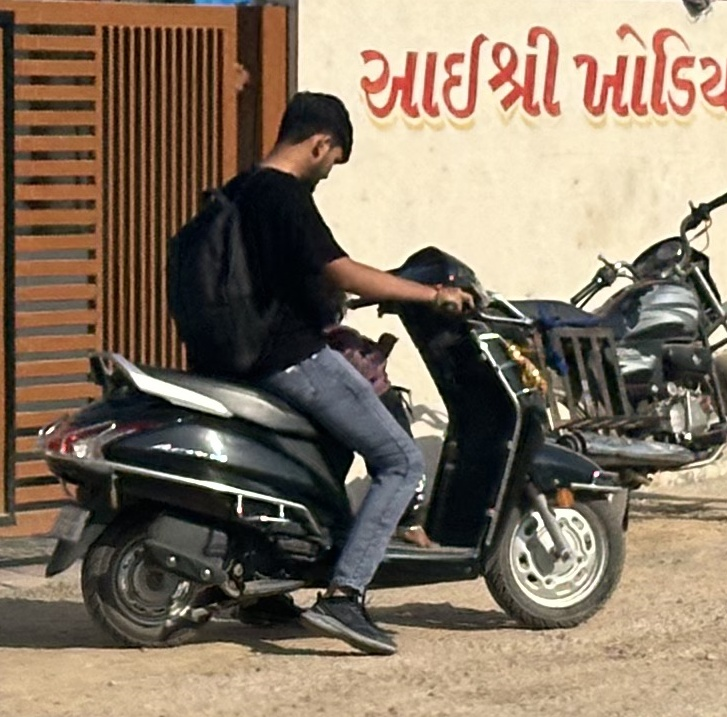BikeWithRider: (22, 79, 633, 664)
NoHelmet: (254, 84, 362, 192)
